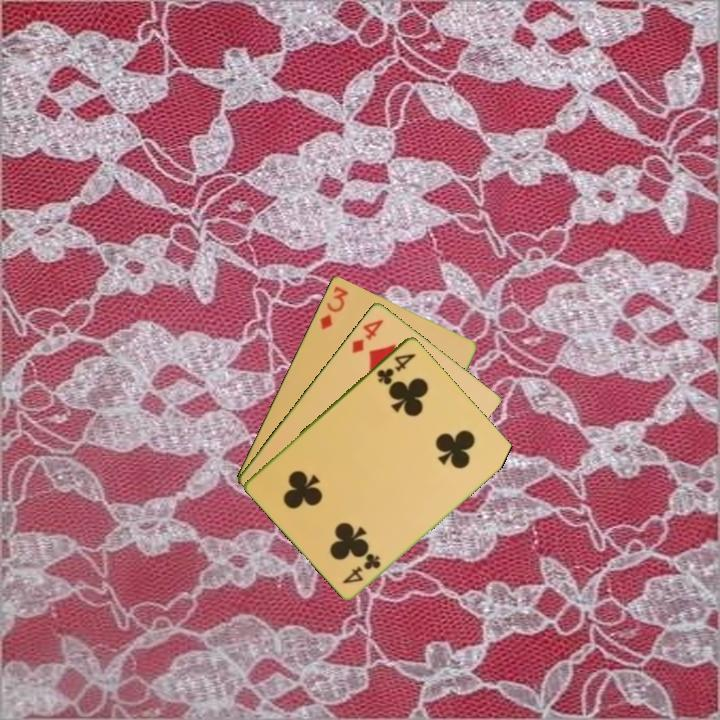3d: (316, 282, 351, 332)
4c: (373, 349, 419, 388), (339, 550, 384, 586)
4d: (348, 315, 386, 356)
